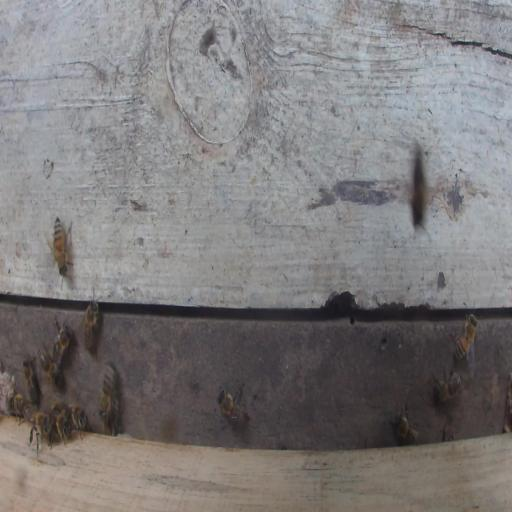bee: (410, 141, 428, 231), (218, 382, 251, 428), (453, 311, 478, 362), (25, 407, 51, 454), (391, 404, 419, 445), (99, 360, 115, 422), (51, 321, 72, 368), (39, 349, 63, 389), (53, 216, 68, 276), (434, 372, 462, 403), (22, 357, 40, 403), (9, 388, 31, 424), (67, 405, 88, 440), (84, 299, 98, 350), (49, 413, 67, 448), (104, 396, 119, 438)
